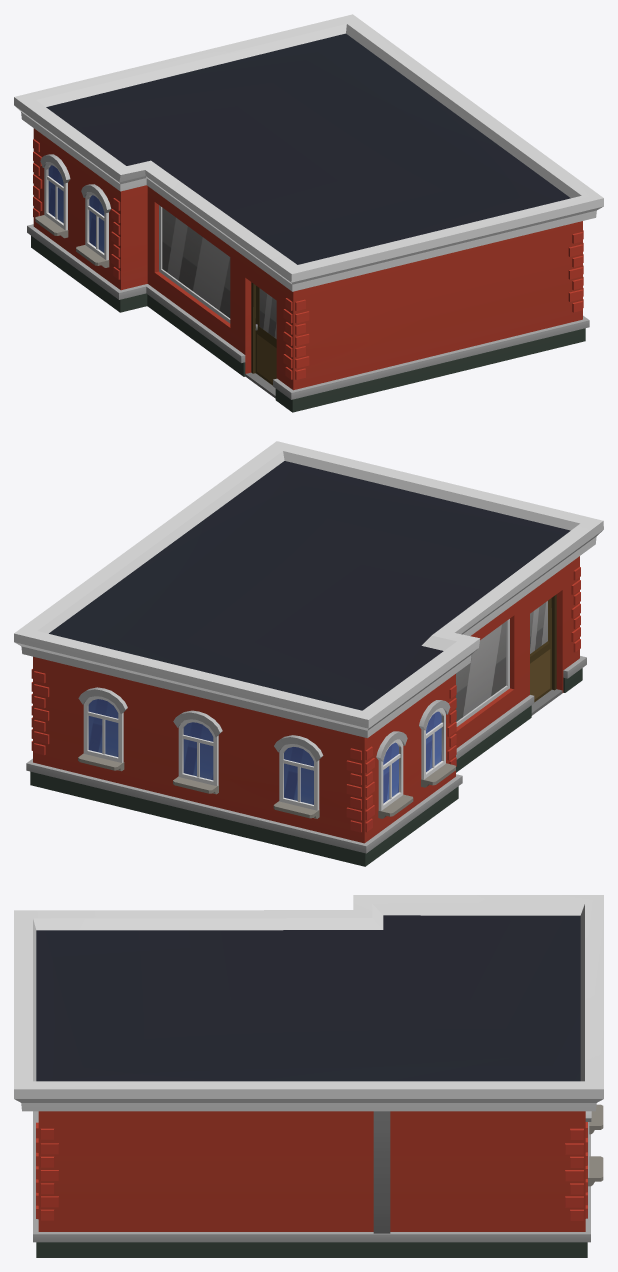
The model's file is Building_1_1_M.fbx.
3 renders of one model, top to bottom at view 1: azimuth 30°, elevation 25°; view 2: azimuth 150°, elevation 25°; view 3: azimuth 270°, elevation 25°, orthographic. The views are drawn at different scales.
Parts seen in each view (by area): view 1: Building_1_1_M; view 2: Building_1_1_M; view 3: Building_1_1_M.
Boxes of the visible parts, x1,y1,x2,y2 form: Building_1_1_M: (14,14,603,412); Building_1_1_M: (14,441,603,866); Building_1_1_M: (14,895,603,1257).
Size of the model in its own units: 822 by 341 by 1051.
